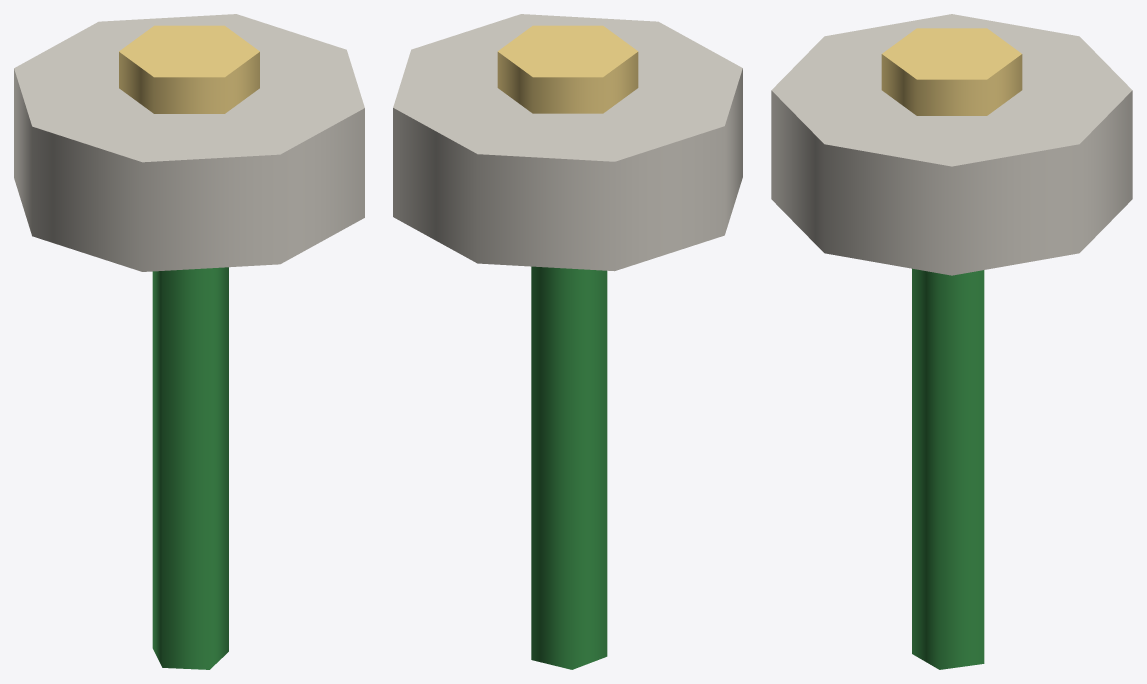
File: daisy.glb
3 renders of one model, left to right at view 1: azimuth 30°, elevation 25°; view 2: azimuth 150°, elevation 25°; view 3: azimuth 270°, elevation 25°, orthographic.
Visible parts, largest first — view 1: daisy; view 2: daisy; view 3: daisy.
Boxes of the visible parts, x1,y1,x2,y2 form: daisy: (14,14,364,669); daisy: (393,14,742,669); daisy: (771,14,1132,669).
Bounding box in the file's own units: 0.36 × 0.66 × 0.36.
